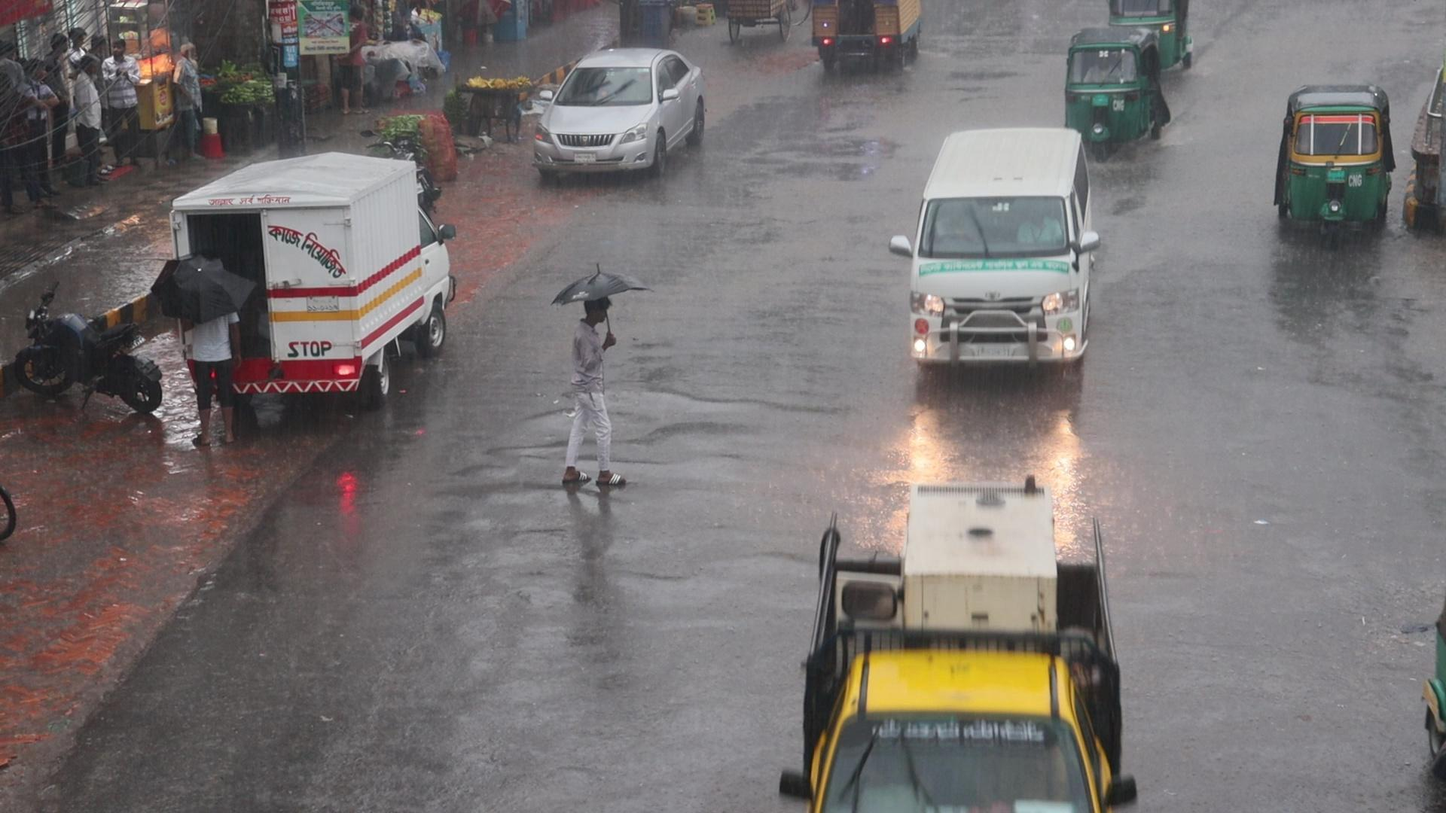Car: (889, 124, 1100, 375), (531, 46, 709, 178), (1274, 82, 1396, 251)
